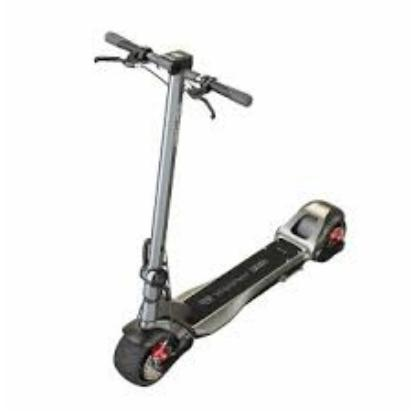bike: (91, 29, 350, 392)
